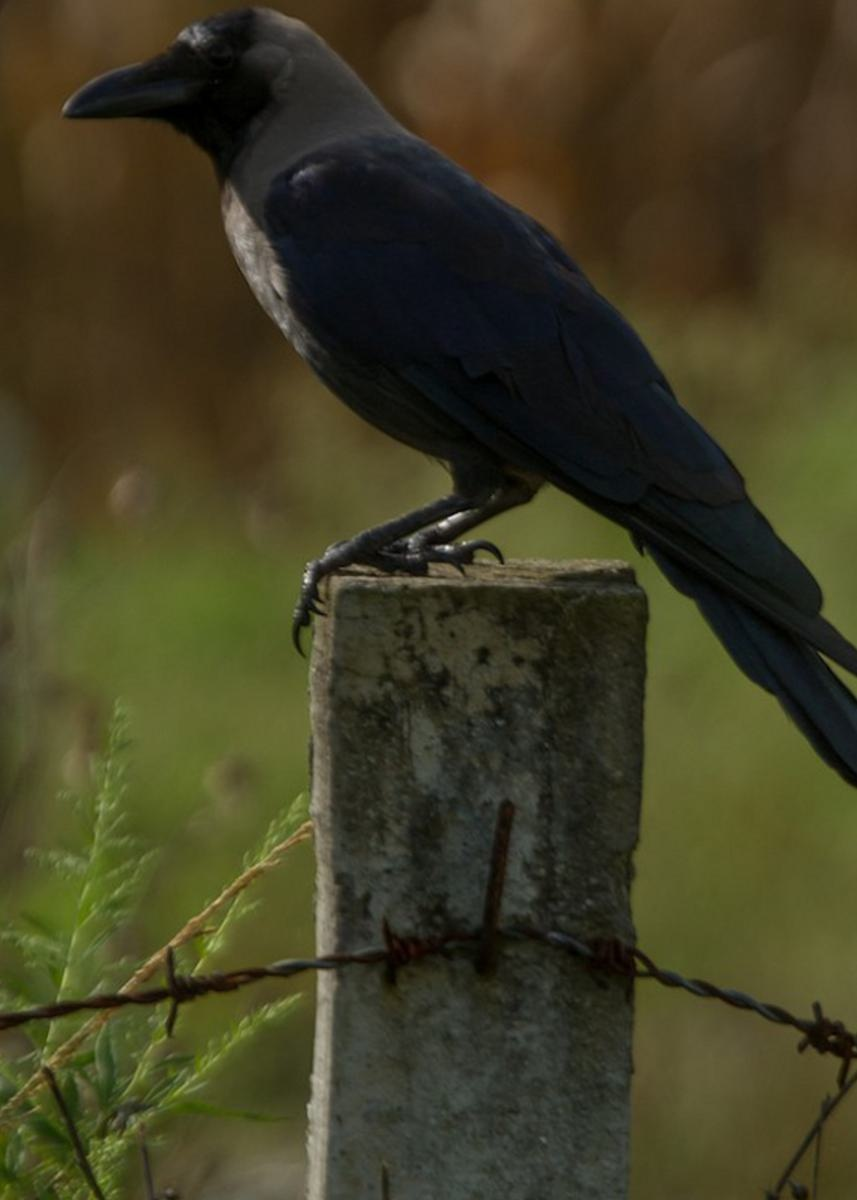crow: (69, 4, 857, 820)
